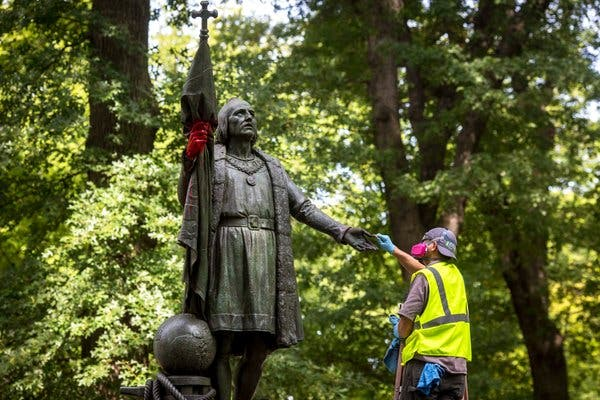person: (373, 222, 476, 400)
person-like: (172, 94, 384, 399)
